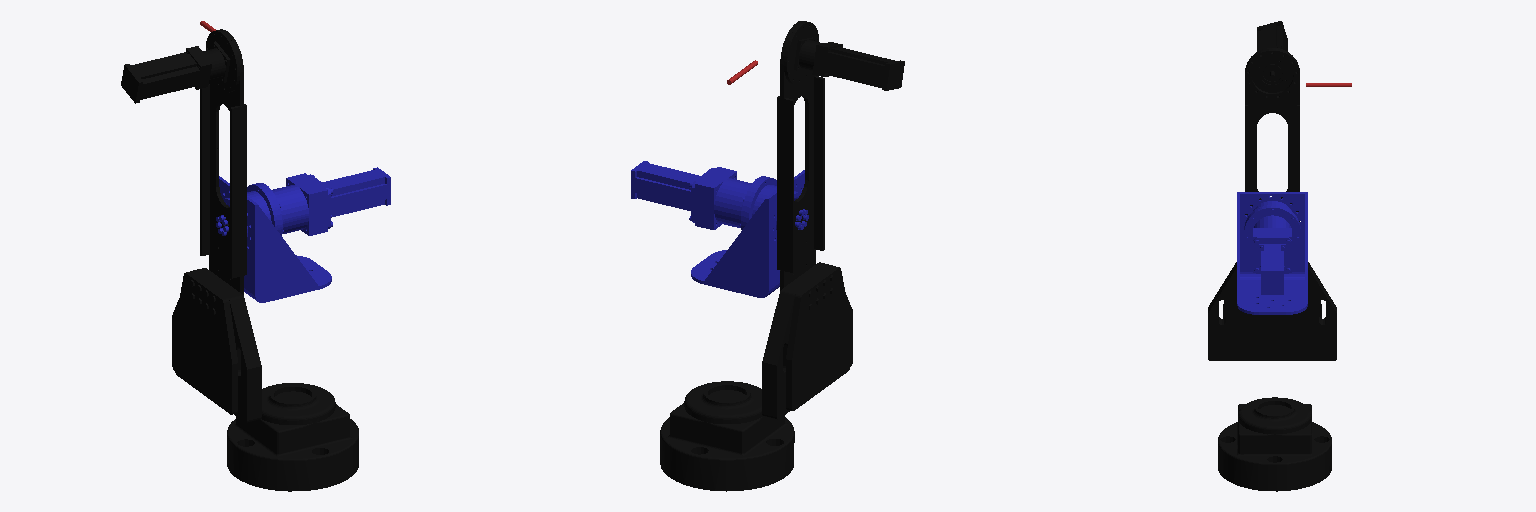
robot.urdf — three_dof:
<?xml version="1.0" encoding="utf-8"?>
<!-- This URDF was automatically created by SolidWorks to URDF Exporter! Originally created by [author] ([email redacted]) 
     Commit Version: 1.6.0-4-g7f85cfe  Build Version: 1.6.7995.38578
     For more information, please see http://wiki.ros.org/sw_urdf_exporter -->
<robot
  name="three_dof">
  <link name="world" />
  <link
    name="base_link">
    <inertial>
      <origin
        xyz="-0.00431825502539671 -0.00566373488320885 0.323272983577505"
        rpy="0 0 0" />
      <mass
        value="79.6654029695768" />
      <inertia
        ixx="0.573355253302005"
        ixy="0.0017561395261876"
        ixz="6.95230375143639E-05"
        iyy="0.687136996298016"
        iyz="-9.66176789904465E-07"
        izz="0.735241435441936" />
    </inertial>
    <visual>
      <origin
        xyz="0 0 0"
        rpy="0 0 0" />
      <geometry>
        <mesh
          filename="package://arduinobot_description/meshes/base_link.STL" />
      </geometry>
      <material
        name="black">
        <color
          rgba="0.1 0.1 0.1 1" />
      </material>
    </visual>
    <collision>
      <origin
        xyz="0 0 0"
        rpy="0 0 0" />
      <geometry>
        <mesh
          filename="package://arduinobot_description/meshes/base_link.STL" />
      </geometry>
    </collision>
  </link>
      <joint name="virtual_joint" type="fixed">
        <parent link="world" />
        <child link="base_link" />
        <origin xyz="0 0 0" rpy="0 0 0" />
    </joint>
  <link
    name="link1">
    <inertial>
      <origin
        xyz="8.42513902520742E-06 0.0434262949156984 0.170114473981018"
        rpy="0 0 0" />
      <mass
        value="40.7059478899697" />
      <inertia
        ixx="0.274475922205371"
        ixy="1.82077498242031E-05"
        ixz="1.96447102595056E-05"
        iyy="0.22628292831378"
        iyz="-0.0482139507692608"
        izz="0.215894409124819" />
    </inertial>
    <visual>
      <origin
        xyz="0 0 0"
        rpy="0 0 0" />
      <geometry>
        <mesh
          filename="package://arduinobot_description/meshes/link1.STL" />
      </geometry>
      <material
        name="blue">
        <color
          rgba="0.2 0.2 0.7 1" />
      </material>
    </visual>
    <collision>
      <origin
        xyz="0 0 0"
        rpy="0 0 0" />
      <geometry>
        <mesh
          filename="package://arduinobot_description/meshes/link1.STL" />
      </geometry>
    </collision>
  </link>
  <joint
    name="joint1"
    type="continuous">
    <origin
      xyz="-0.0065346 -0.0081621 0.59003"
      rpy="0 0 1.5708" />
    <parent
      link="base_link" />
    <child
      link="link1" />
    <axis
      xyz="0 0 1" />
  </joint>
  <link
    name="link2">
    <inertial>
      <origin
        xyz="-0.000127533996189498 -0.191909527477922 -0.26149236779315"
        rpy="0 0 0" />
      <mass
        value="10.9233639477083" />
      <inertia
        ixx="0.158360782590535"
        ixy="-4.30378464138589E-05"
        ixz="1.26596522120862E-08"
        iyy="0.0953794761931371"
        iyz="-2.59480945319534E-06"
        izz="0.246389636037909" />
    </inertial>
    <visual>
      <origin
        xyz="0 0 0"
        rpy="0 0 0" />
      <geometry>
        <mesh
          filename="package://arduinobot_description/meshes/link2.STL" />
      </geometry>
      <material
        name="black">
        <color
          rgba="0.1 0.1 0.1 1" />
      </material>
    </visual>
    <collision>
      <origin
        xyz="0 0 0"
        rpy="0 0 0" />
      <geometry>
        <mesh
          filename="package://arduinobot_description/meshes/link2.STL" />
      </geometry>
    </collision>
  </link>
  <joint
    name="joint2"
    type="continuous">
    <origin
      xyz="1.6792E-05 0 0.212"
      rpy="1.5708 0 0" />
    <parent
      link="link1" />
    <child
      link="link2" />
    <axis
      xyz="0 0 -1" />
  </joint>
  <link
    name="link3">
    <inertial>
      <origin
        xyz="-0.0228313878912571 -3.73527074088997E-05 -0.132032896237542"
        rpy="0 0 0" />
      <mass
        value="17.3454951445915" />
      <inertia
        ixx="0.0317675300356897"
        ixy="1.43517256169409E-05"
        ixz="0.000399562777711981"
        iyy="0.0322430934777024"
        iyz="3.04510784441626E-06"
        izz="0.0457582904028881" />
    </inertial>
    <visual>
      <origin
        xyz="0 0 0"
        rpy="0 0 0" />
      <geometry>
        <mesh
          filename="package://arduinobot_description/meshes/link3.STL" />
      </geometry>
      <material
        name="blue">
        <color
          rgba="0.2 0.2 0.7 1" />
      </material>
    </visual>
    <collision>
      <origin
        xyz="0 0 0"
        rpy="0 0 0" />
      <geometry>
        <mesh
          filename="package://arduinobot_description/meshes/link3.STL" />
      </geometry>
    </collision>
  </link>
  <joint
    name="joint3"
    type="continuous">
    <origin
      xyz="0 0.512 0"
      rpy="0 0 0" />
    <parent
      link="link2" />
    <child
      link="link3" />
    <axis
      xyz="0 0 -1" />
  </joint>
  <link
    name="link4">
    <inertial>
      <origin
        xyz="1.38777878078145E-16 0 0.075"
        rpy="0 0 0" />
      <mass
        value="0.0265071880146639" />
      <inertia
        ixx="5.0073734858951E-05"
        ixy="2.68833699080117E-23"
        ixz="-9.72260894308173E-20"
        iyy="5.0073734858951E-05"
        iyz="1.65157223027251E-20"
        izz="7.45514662912422E-07" />
    </inertial>
    <visual>
      <origin
        xyz="0 0 0"
        rpy="0 0 0" />
      <geometry>
        <mesh
          filename="package://arduinobot_description/meshes/link4.STL" />
      </geometry>
      <material
        name="red">
        <color
          rgba="0.7 0.2 0.2 1" />
      </material>
    </visual>
    <collision>
      <origin
        xyz="0 0 0"
        rpy="0 0 0" />
      <geometry>
        <mesh
          filename="package://arduinobot_description/meshes/link4.STL" />
      </geometry>
    </collision>
  </link>
  <joint
    name="joint4"
    type="continuous">
    <origin
      xyz="0.1105 -0.0041121 -0.14479"
      rpy="0 1.5708 0" />
    <parent
      link="link3" />
    <child
      link="link4" />
    <axis
      xyz="0 0 -1" />
  </joint>

    <!-- gazebo color-->
  <gazebo reference="base_link">
        <material>Gazebo/Gray</material>
        <plugin name="gazebo_ros_control">
            <robotNamespace>/</robotNamespace>
        </plugin>
  </gazebo>
  <gazebo reference="link1">
      <material>Gazebo/Orange</material>
  </gazebo>
  <gazebo reference="link2">
      <material>Gazebo/Gray</material>
  </gazebo>
  <gazebo reference="link3">
      <material>Gazebo/Orange</material>
  </gazebo>
  <gazebo reference="link4">
      <material>Gazebo/Gray</material>
  </gazebo>

  <!--Position Transmissions-->
  <transmission name="t_1">
        <type>transmission_interface/SimpleTransmission</type>
        <joint name="joint1">
            <hardwareInterface>hardware_interface/PositionJointInterface</hardwareInterface>
        </joint>
        <actuator name="motor_1">
            <hardwareInterface>hardware_interface/PositionJointInterface</hardwareInterface>
            <mechanicalReduction>1</mechanicalReduction>
        </actuator>
  </transmission>
  <transmission name="t_2">
        <type>transmission_interface/SimpleTransmission</type>
        <joint name="joint2">
            <hardwareInterface>hardware_interface/PositionJointInterface</hardwareInterface>
        </joint>
        <actuator name="motor_2">
            <hardwareInterface>hardware_interface/PositionJointInterface</hardwareInterface>
            <mechanicalReduction>1</mechanicalReduction>
        </actuator>
  </transmission>
  <transmission name="t_3">
        <type>transmission_interface/SimpleTransmission</type>
        <joint name="joint3">
            <hardwareInterface>hardware_interface/PositionJointInterface</hardwareInterface>
        </joint>
        <actuator name="motor_3">
            <hardwareInterface>hardware_interface/PositionJointInterface</hardwareInterface>
            <mechanicalReduction>1</mechanicalReduction>
        </actuator>
  </transmission>
  <transmission name="t_4">
        <type>transmission_interface/SimpleTransmission</type>
        <joint name="joint4">
            <hardwareInterface>hardware_interface/PositionJointInterface</hardwareInterface>
        </joint>
        <actuator name="motor_4">
            <hardwareInterface>hardware_interface/PositionJointInterface</hardwareInterface>
            <mechanicalReduction>1</mechanicalReduction>
        </actuator>
  </transmission>
  <gazebo>
      <plugin name="gazebo_ros_control" filename="libgazebo_ros_control.so" />
      <robotNamespace>/arduinobot</robotNamespace>
      <robotSimType>gazebo_ros_control/DefaultRobotHWSim</robotSimType>
      <legacyModeNS>true</legacyModeNS>
  </gazebo>
</robot>

--- What the picture shows (computed from the rendered views, not written in the file) ---
The picture shows the robot from 3 angles, left to right: view 1: azimuth 30°, elevation 25°; view 2: azimuth 150°, elevation 25°; view 3: azimuth 270°, elevation 25°; orthographic projection.
Model three_dof with 6 links and 5 joints (4 continuous, 1 fixed), rooted at world, posed all joints at 0.
Links seen in each view (by area): view 1: link2, base_link, link1; view 2: link2, base_link, link1; view 3: link2, base_link, link1.
Boxes of the visible links, box(x1,y1,x2,y2) form: link2: box(121, 29, 261, 422); base_link: box(227, 383, 358, 491); link1: box(216, 167, 390, 302); link2: box(762, 21, 904, 419); base_link: box(660, 381, 794, 491); link1: box(631, 161, 808, 297); link2: box(1208, 21, 1336, 360); base_link: box(1218, 397, 1331, 491); link1: box(1237, 192, 1307, 314).
Bounding box of the posed robot: 0.8322 × 0.4722 × 1.4 m (x, y, z).
4 mesh visuals loaded from 5 distinct referenced files (4 binary STL); not drawn: 1 (reference not matched to a file when rendering).